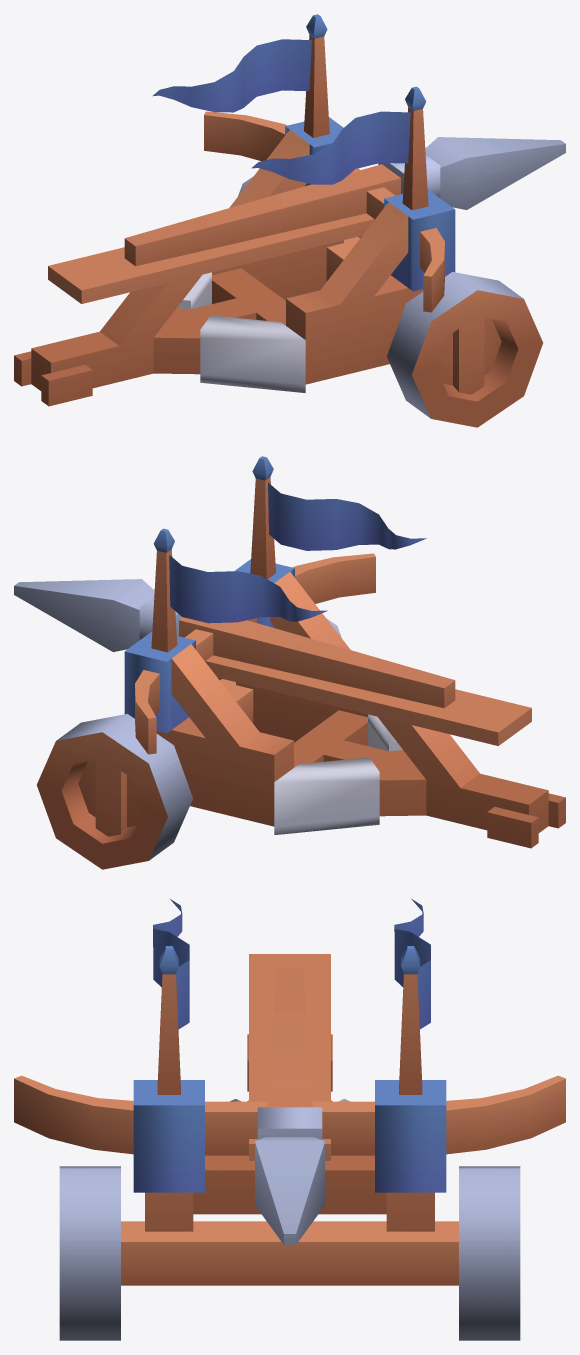
File: siege-ballista.glb
3 views of the same model, one above another, from view 1: azimuth 30°, elevation 25°; view 2: azimuth 150°, elevation 25°; view 3: azimuth 270°, elevation 25° (orthographic). The views are drawn at different scales.
Parts seen in each view (by area): view 1: siege-ballista; view 2: siege-ballista; view 3: siege-ballista.
Part boxes in pixels (bbox=[...]): siege-ballista: bbox=[14, 14, 565, 427]; siege-ballista: bbox=[14, 456, 565, 869]; siege-ballista: bbox=[14, 898, 565, 1340].
Bounding box in the file's own units: 1.63 × 0.9104 × 1.2.
1 material, 1 textured.
